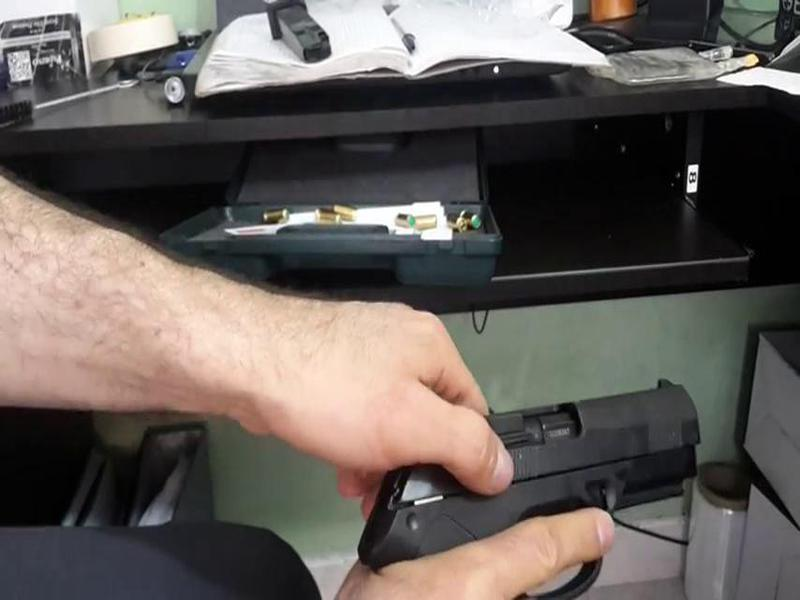Pistola: (306, 364, 770, 576)
